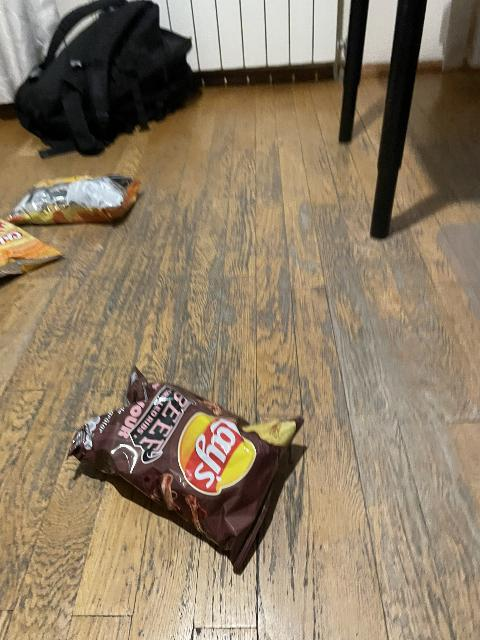Chio Cascaval 125g: (7, 174, 141, 225)
Chio Hula Hoops Cheese 70g: (0, 217, 63, 281)
Lays Beef Grilled Ribs 125g: (67, 365, 303, 572)
